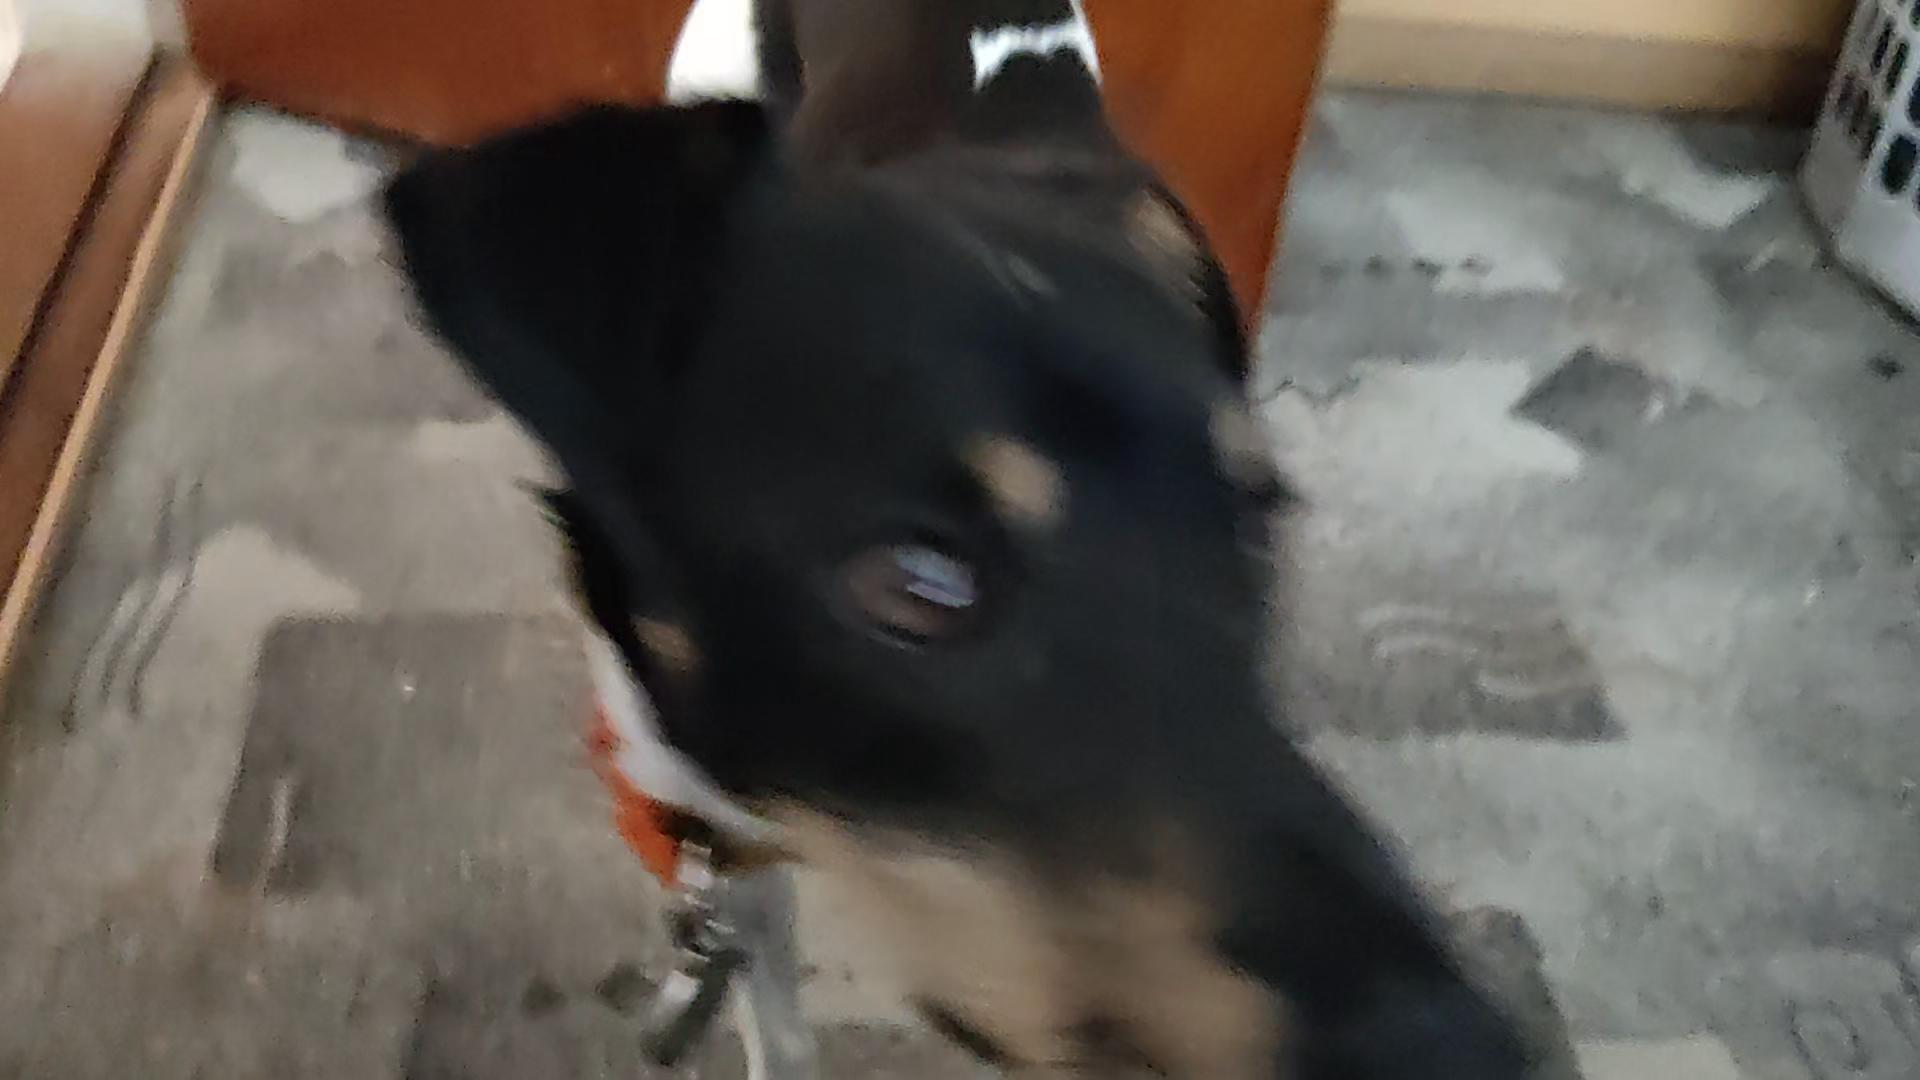Dog: (364, 0, 1575, 1080)
